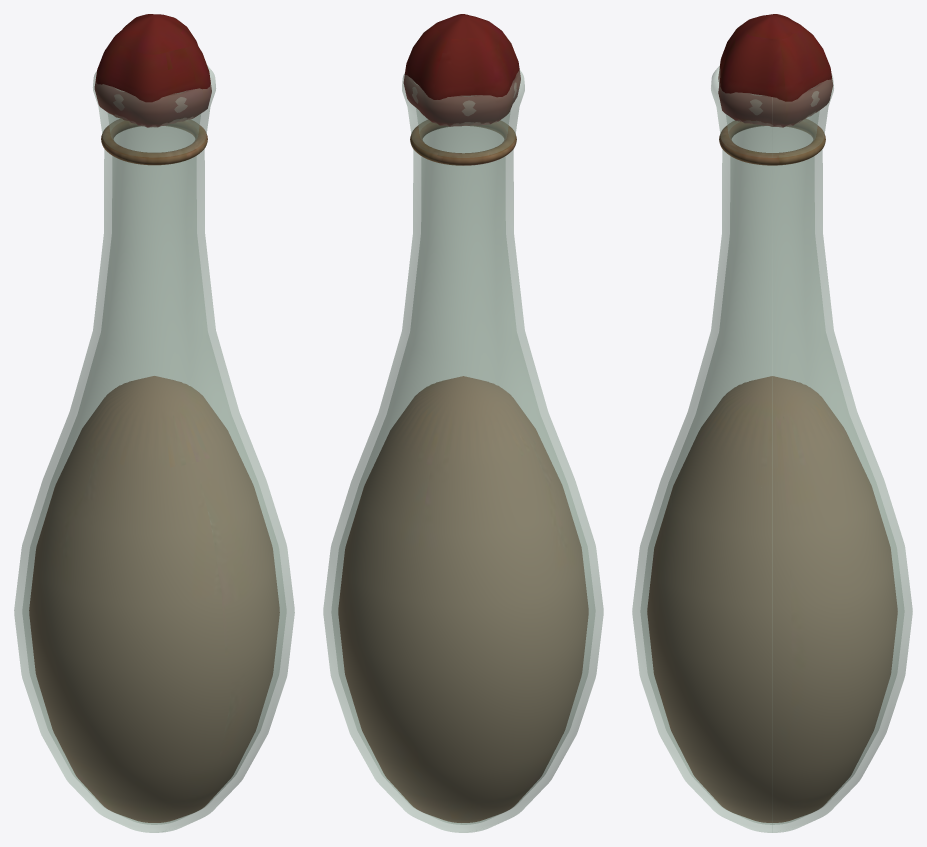
The model's file is tar_oil.glb.
3 renders of one model, left to right at view 1: azimuth 30°, elevation 25°; view 2: azimuth 150°, elevation 25°; view 3: azimuth 270°, elevation 25°, orthographic.
Visible parts, largest first — view 1: glass, tar_oil; view 2: glass, tar_oil; view 3: glass, tar_oil.
Boxes of the visible parts, bbox=[...] form: glass: bbox=[14, 65, 294, 832]; tar_oil: bbox=[29, 14, 279, 822]; glass: bbox=[323, 70, 603, 832]; tar_oil: bbox=[338, 14, 588, 822]; glass: bbox=[632, 65, 912, 832]; tar_oil: bbox=[647, 14, 897, 822].
Size of the model in its own units: 0.0533 by 0.1707 by 0.0533.
2 materials, 1 textured.
